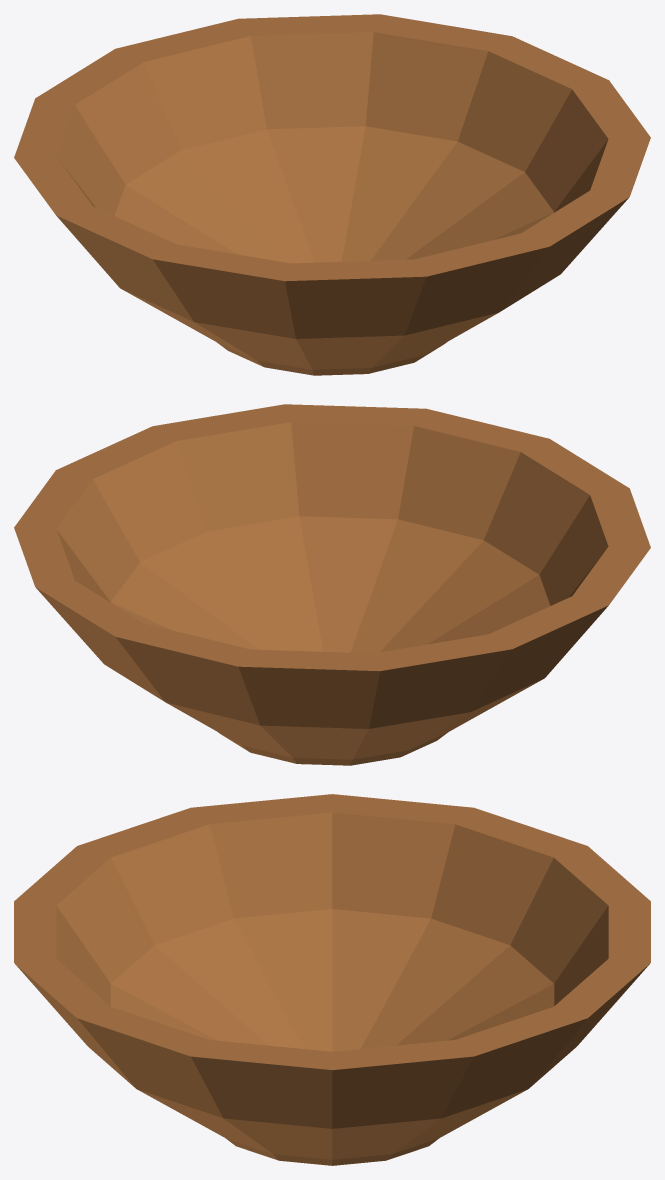
Rendered from SM_LPI_Ware_SaladBowl_01.fbx.
3 views of the same model, one above another, from view 1: azimuth 30°, elevation 25°; view 2: azimuth 150°, elevation 25°; view 3: azimuth 270°, elevation 25° (orthographic). The views are drawn at different scales.
Parts seen in each view (by area): view 1: SM_LPI_Ware_SaladBowl_01; view 2: SM_LPI_Ware_SaladBowl_01; view 3: SM_LPI_Ware_SaladBowl_01.
Boxes of the visible parts, x1=… form: SM_LPI_Ware_SaladBowl_01: x1=14, y1=14, x2=650, y2=375; SM_LPI_Ware_SaladBowl_01: x1=14, y1=404, x2=650, y2=765; SM_LPI_Ware_SaladBowl_01: x1=14, y1=794, x2=650, y2=1165.
Size of the model in its own units: 0.3 by 0.092 by 0.2925.
